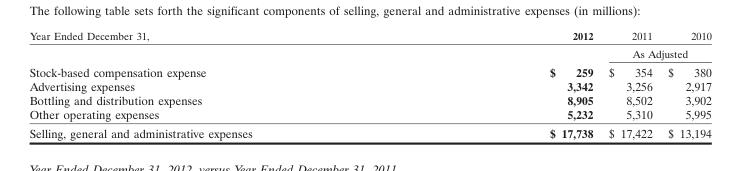table: (28, 28, 710, 140)
table column: (28, 28, 400, 140), (400, 28, 600, 140), (600, 28, 659, 140), (659, 28, 710, 140)
table column header: (28, 28, 710, 61)
table row: (28, 43, 710, 61), (28, 61, 710, 78), (28, 106, 710, 123), (28, 123, 710, 140), (28, 28, 710, 43), (28, 78, 710, 92), (28, 92, 710, 106)
table spanning cell: (28, 28, 400, 61), (400, 28, 600, 61), (600, 43, 710, 61)
